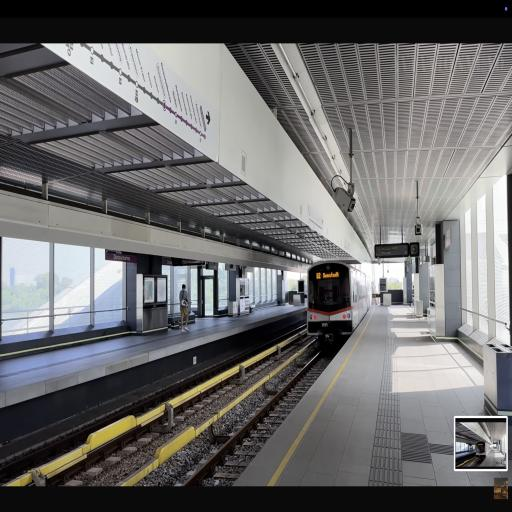V-Wagen: (305, 259, 372, 338)
